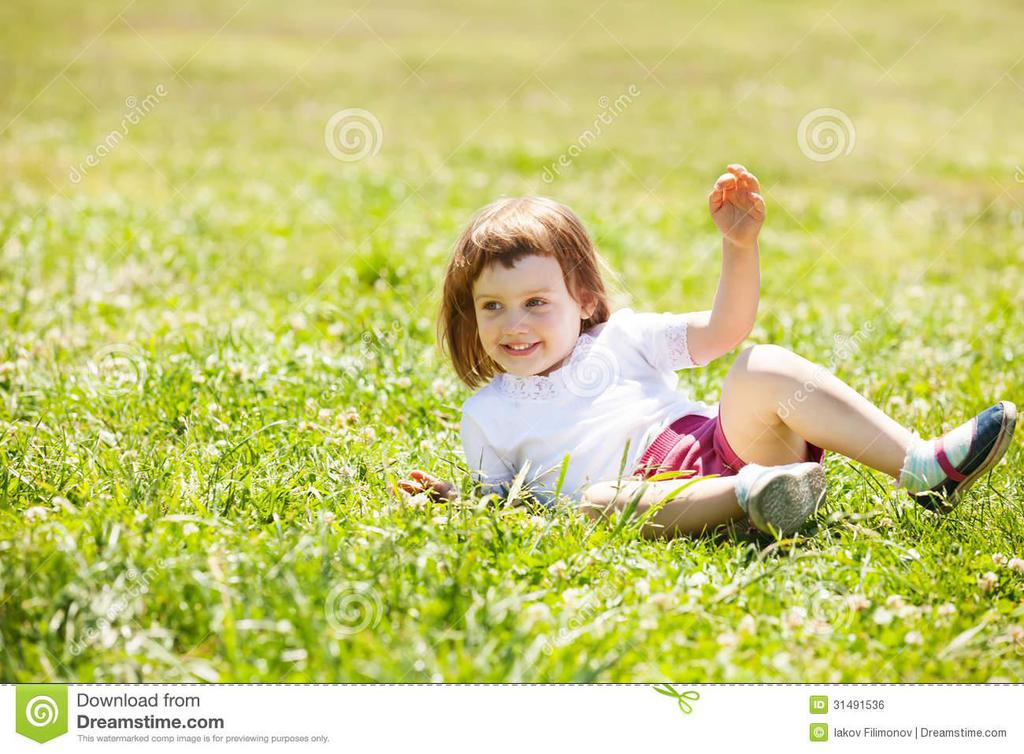child: (409, 156, 1020, 558)
